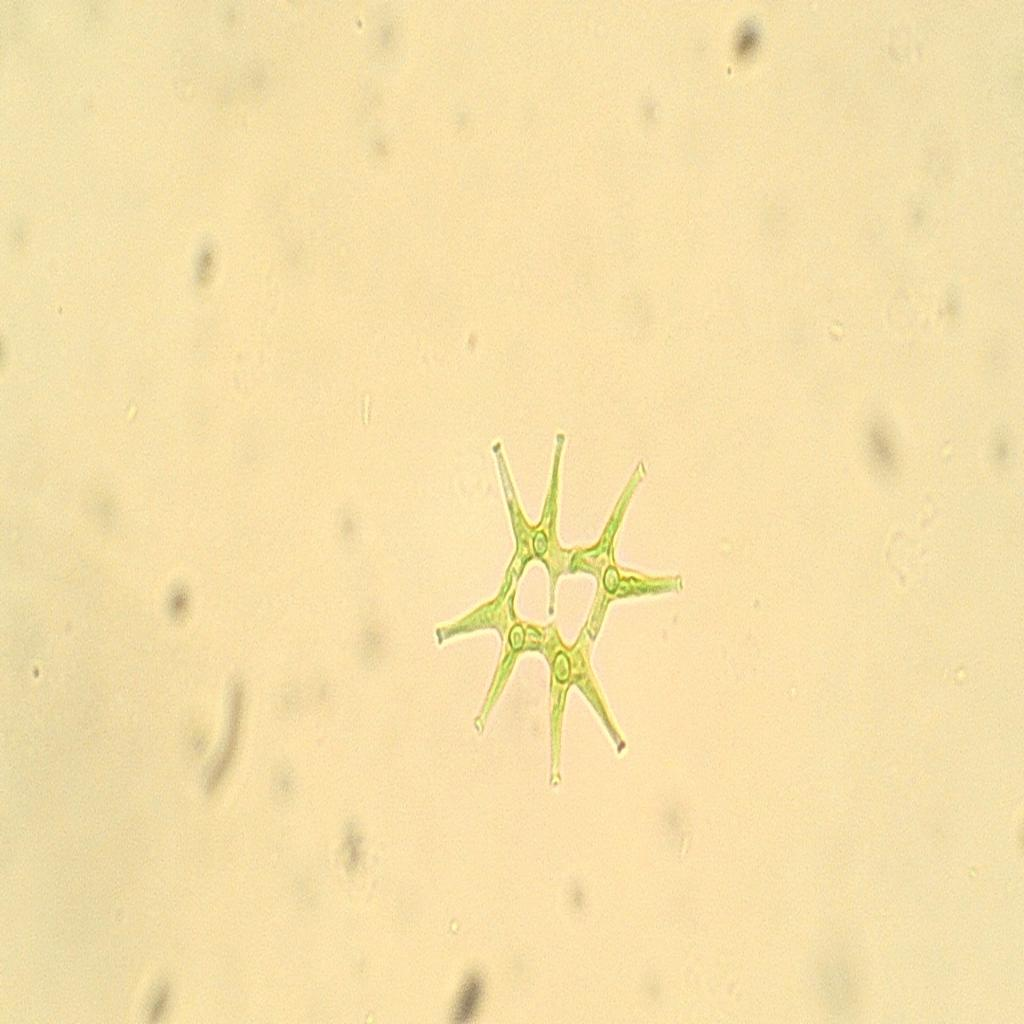Pediastrum_CF: (428, 414, 692, 807)
